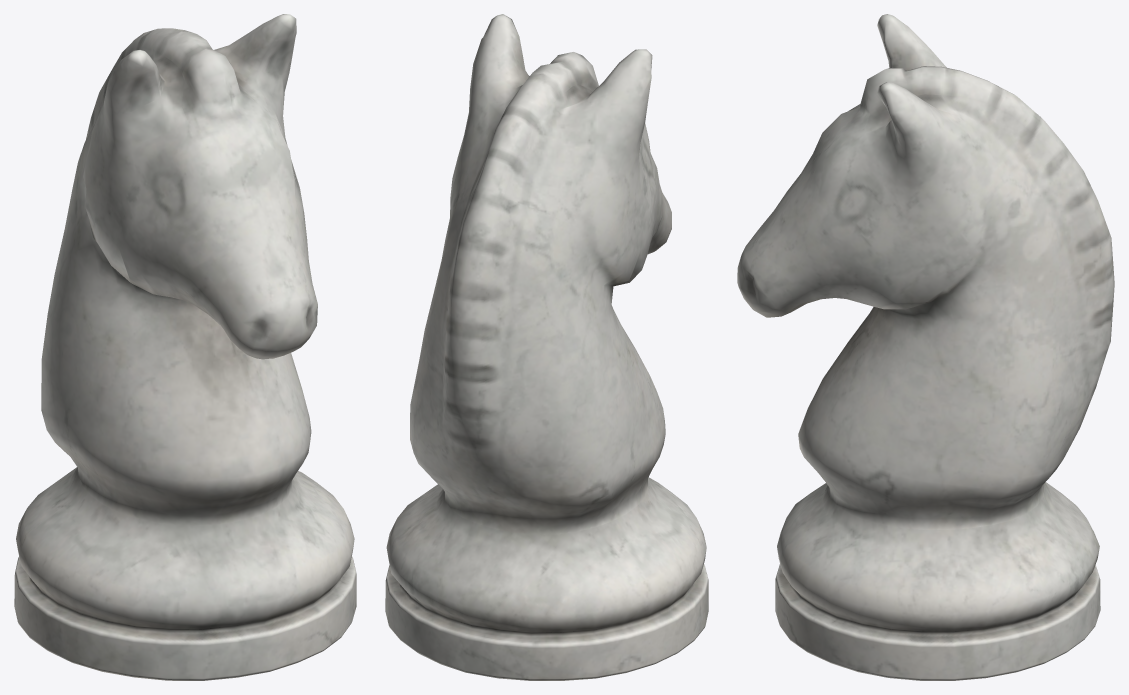
Rendered from chess-set-1k-piece-knight-white-01.glb.
3 views of the same model, side by side, from view 1: azimuth 30°, elevation 25°; view 2: azimuth 150°, elevation 25°; view 3: azimuth 270°, elevation 25° (orthographic). The views are drawn at different scales.
Parts seen in each view (by area): view 1: piece_knight_white_01; view 2: piece_knight_white_01; view 3: piece_knight_white_01.
Boxes of the visible parts, box(x1,y1,x2,y2) form: piece_knight_white_01: box(14, 14, 356, 680); piece_knight_white_01: box(385, 14, 708, 680); piece_knight_white_01: box(737, 14, 1114, 680).
Bounding box in the file's own units: 0.0388 × 0.075 × 0.0454.
1 material, 1 textured.
